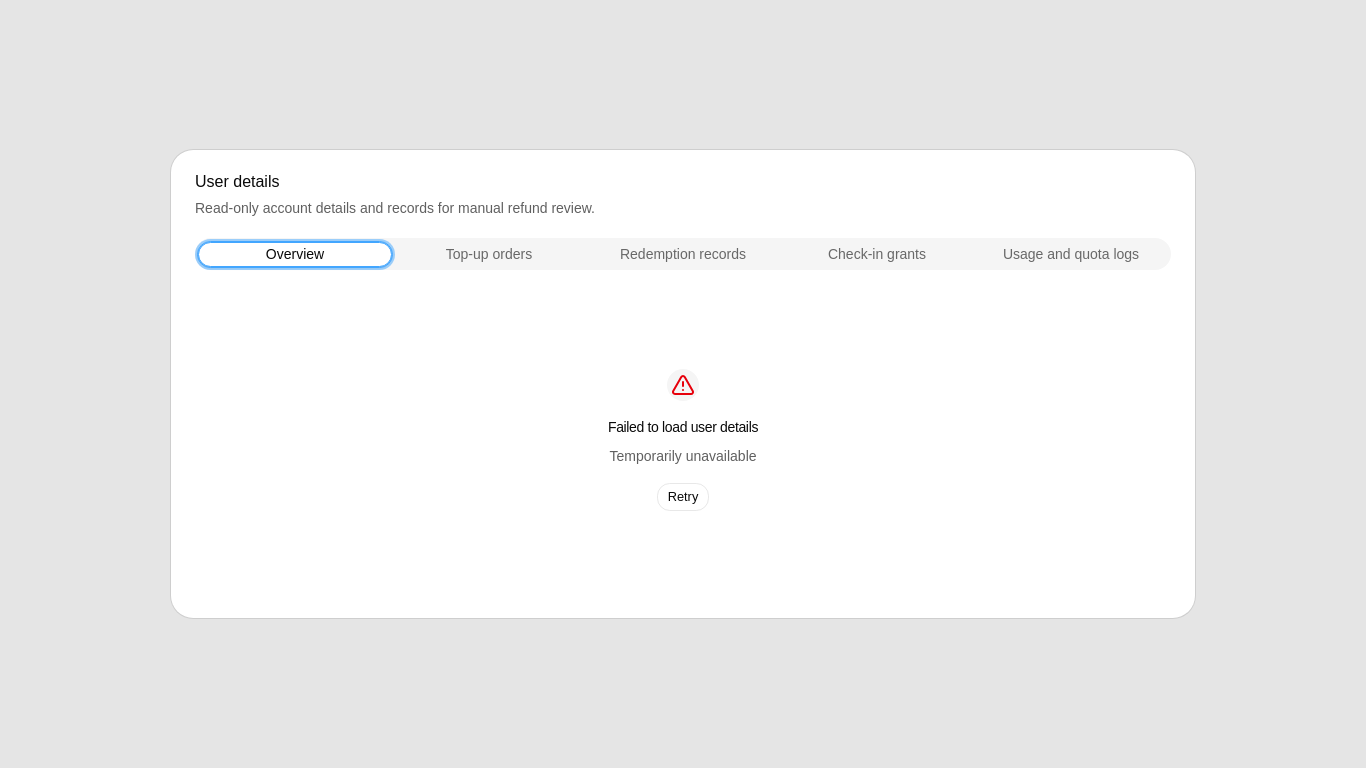
Test: a failed details request can be retried and replaces the error with the selected user
Check: the text "Temporarily unavailable" is shown, box [610, 445, 757, 467]
Click the button "Retry": x=683, y=497 [657, 483, 709, 511]
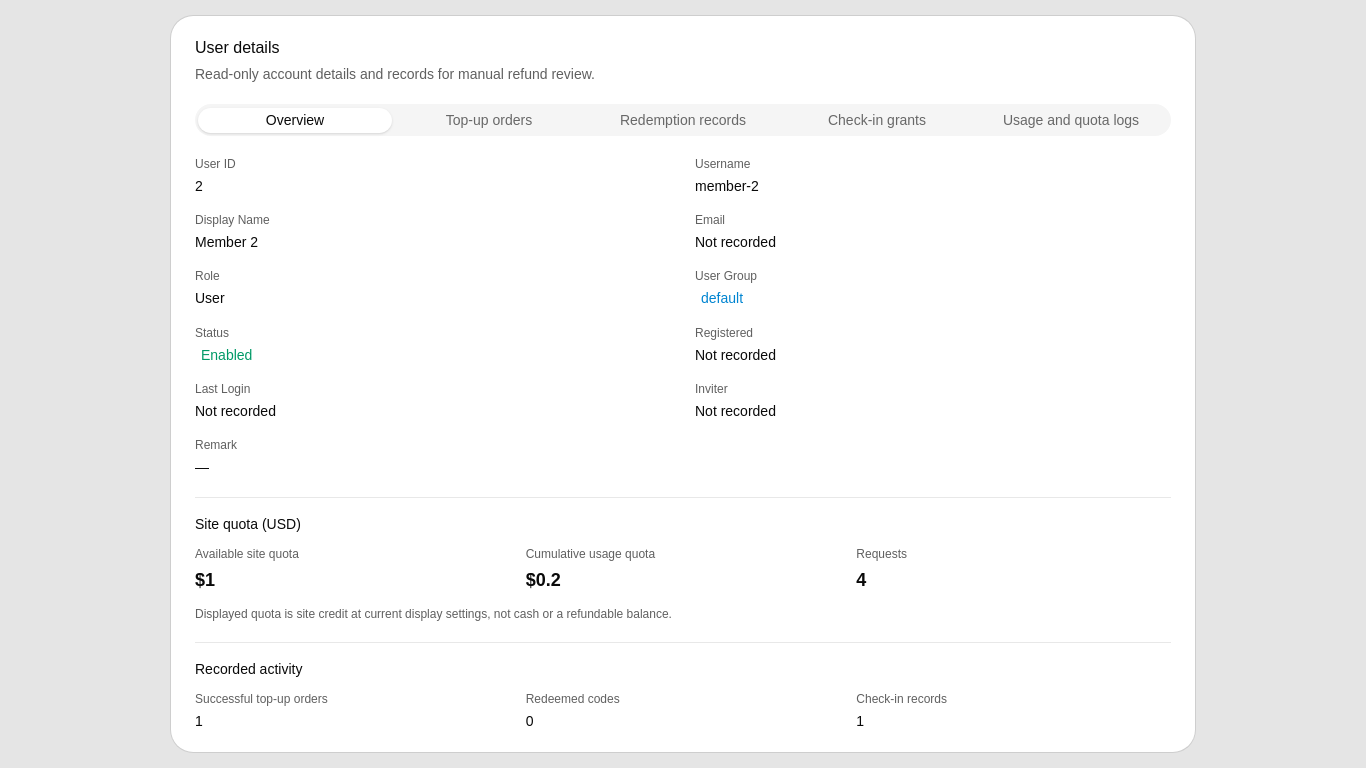
Check: the text "member-2" is shown, box [695, 178, 759, 194]
